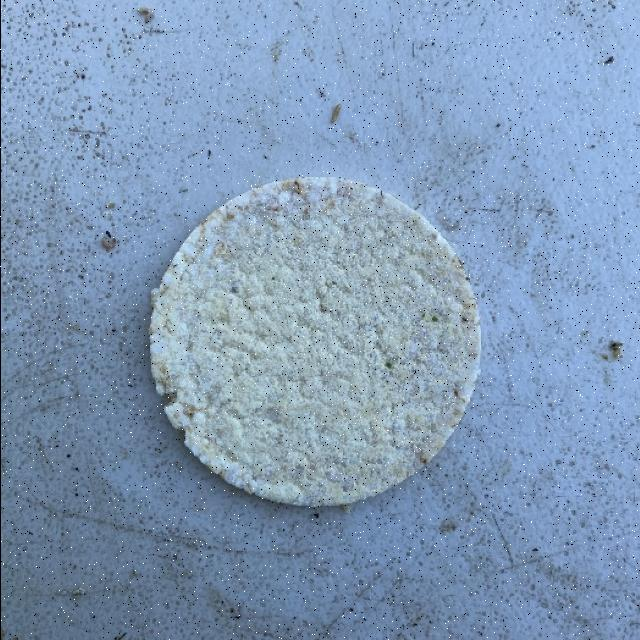organik: (141, 182, 480, 500)
